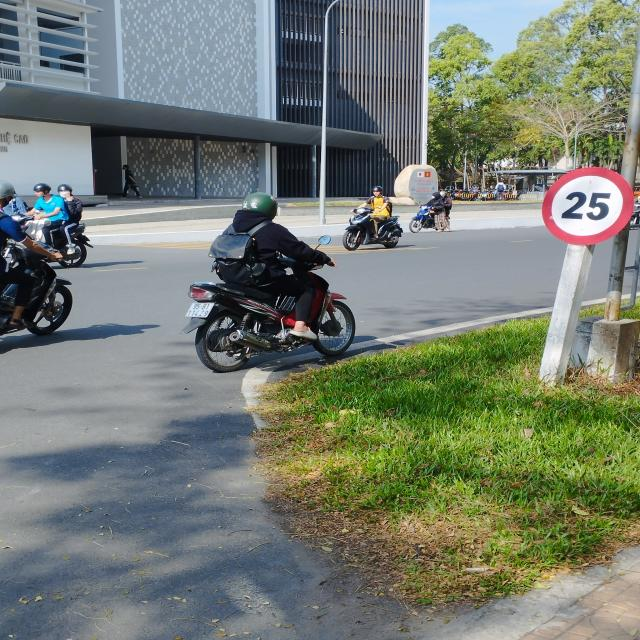Tre_Em: (541, 166, 634, 245)
